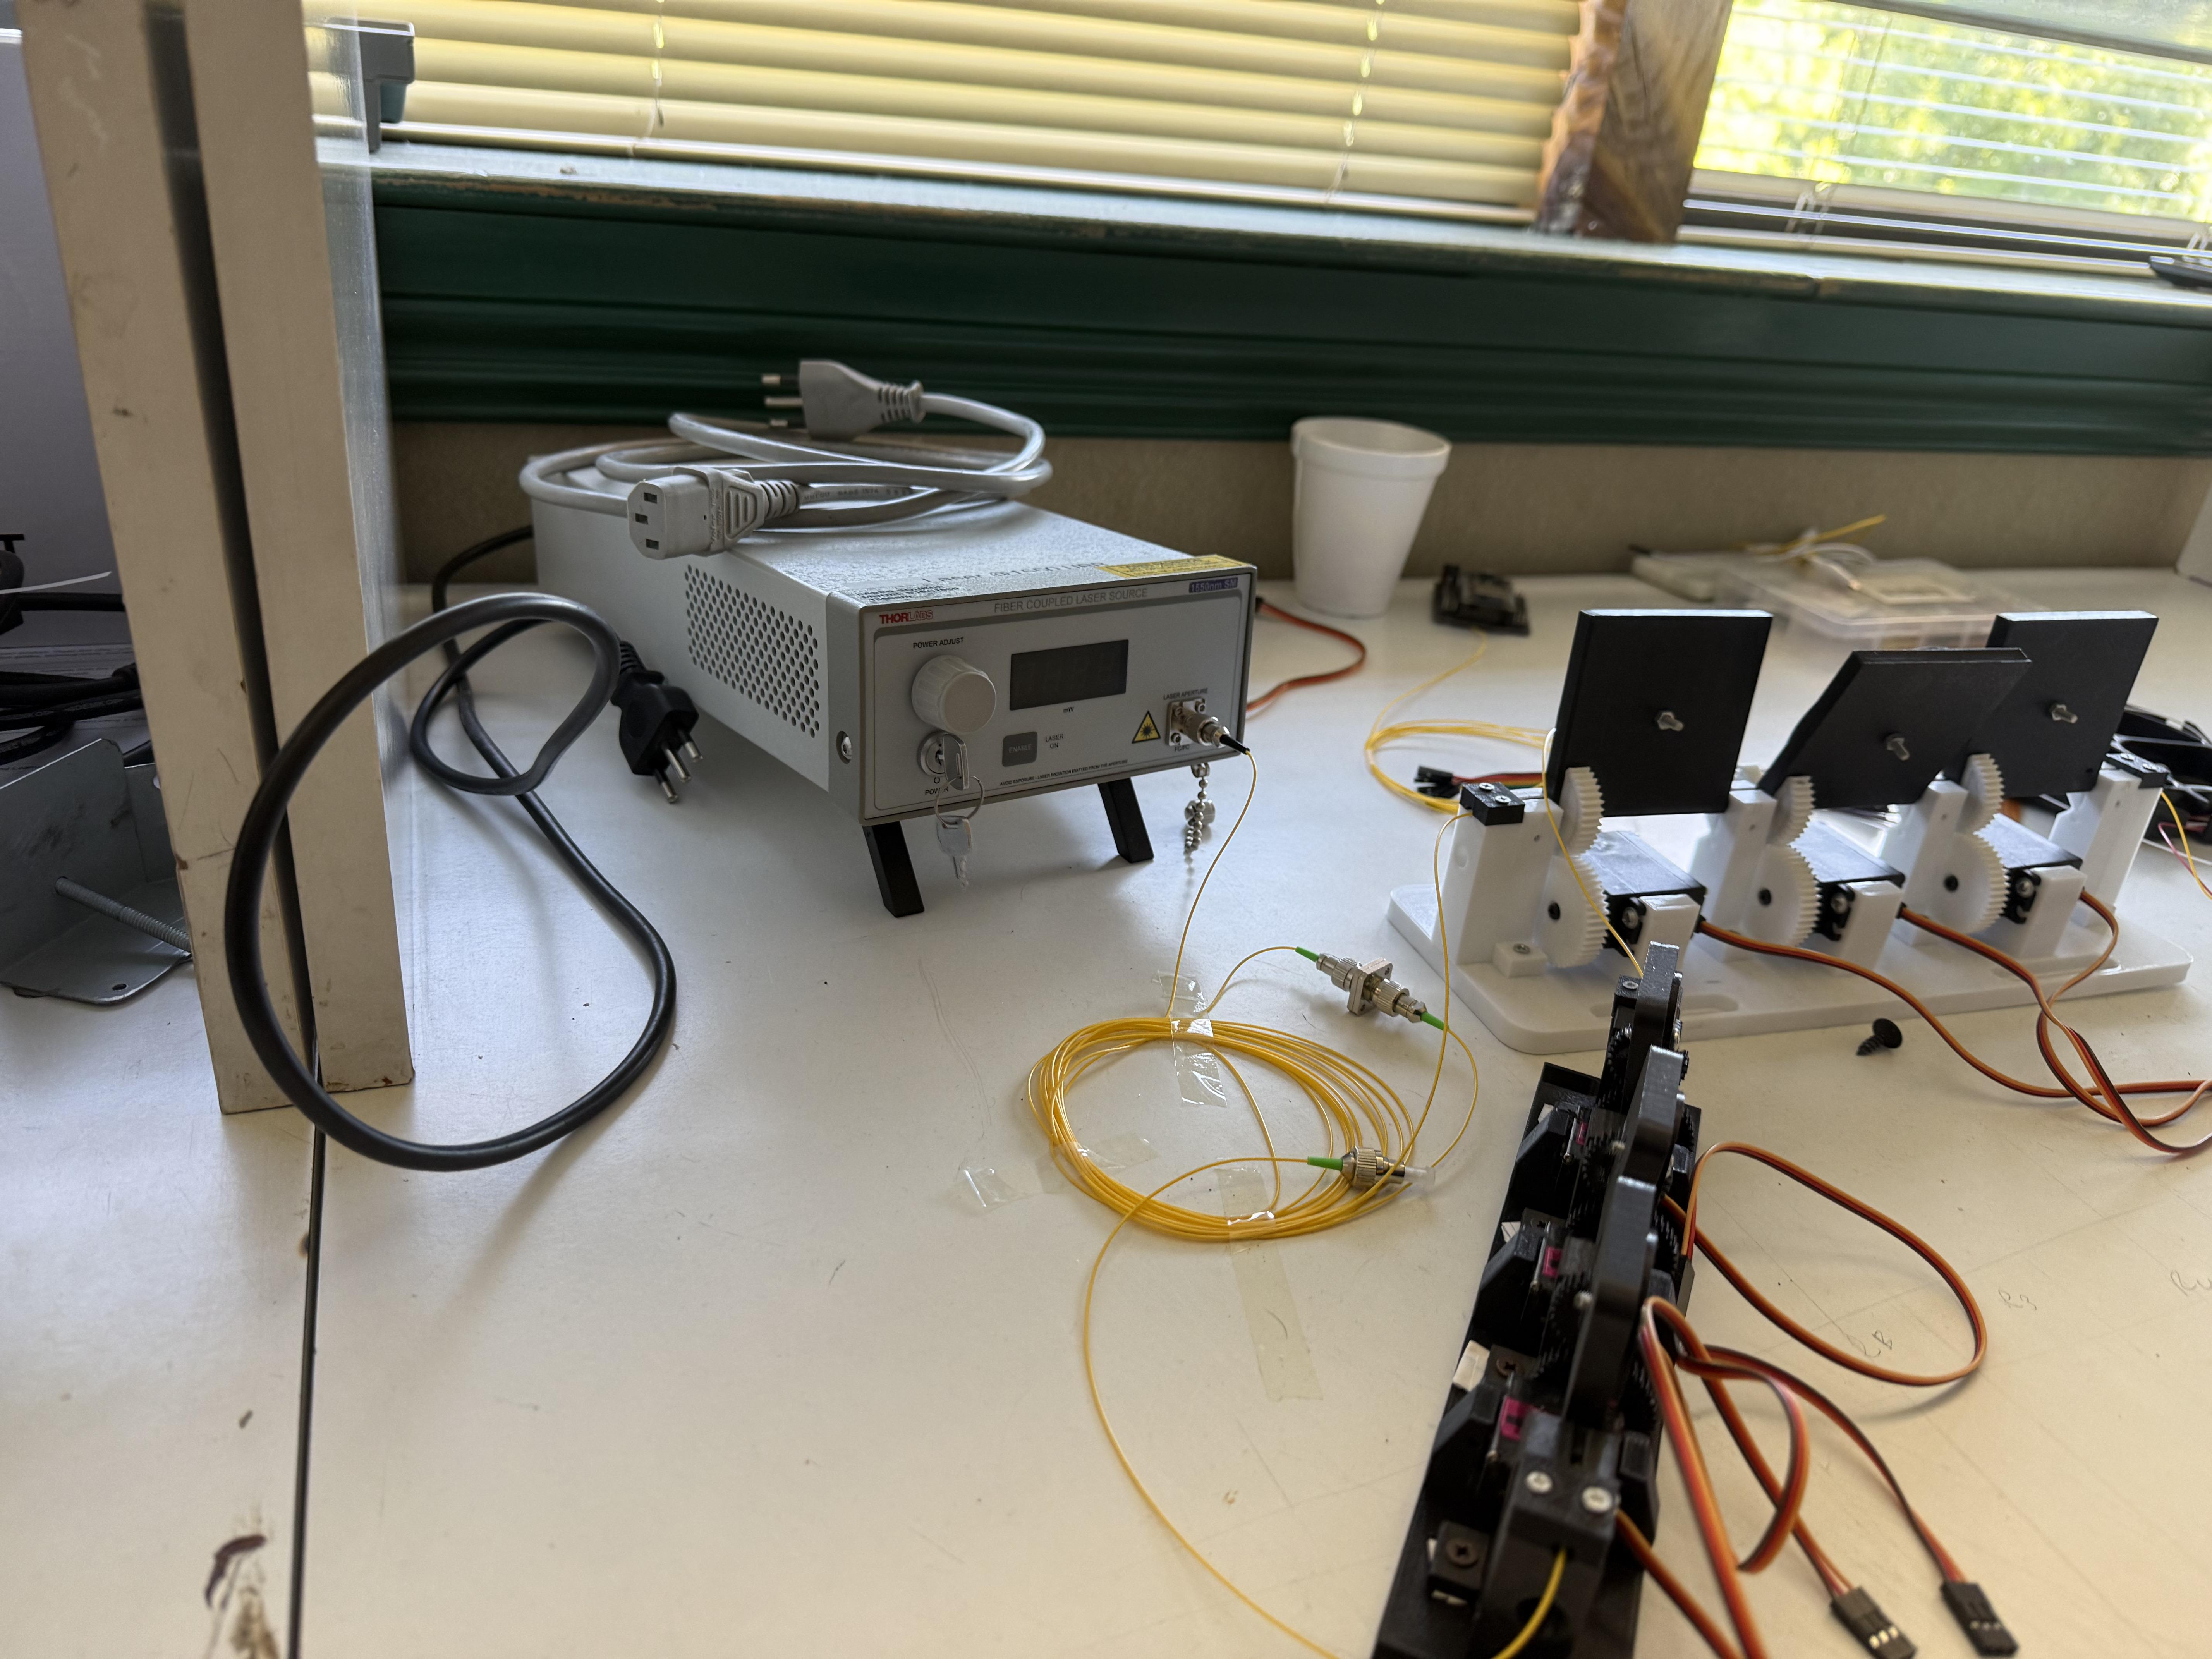laser: (470, 336, 1306, 964)
paddle_polarization_controller: (1364, 572, 2191, 1084), (1329, 908, 1733, 1659)
